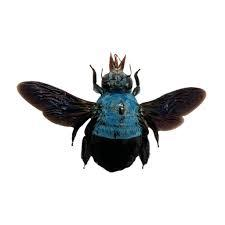Xylocopa: (12, 56, 207, 176)
